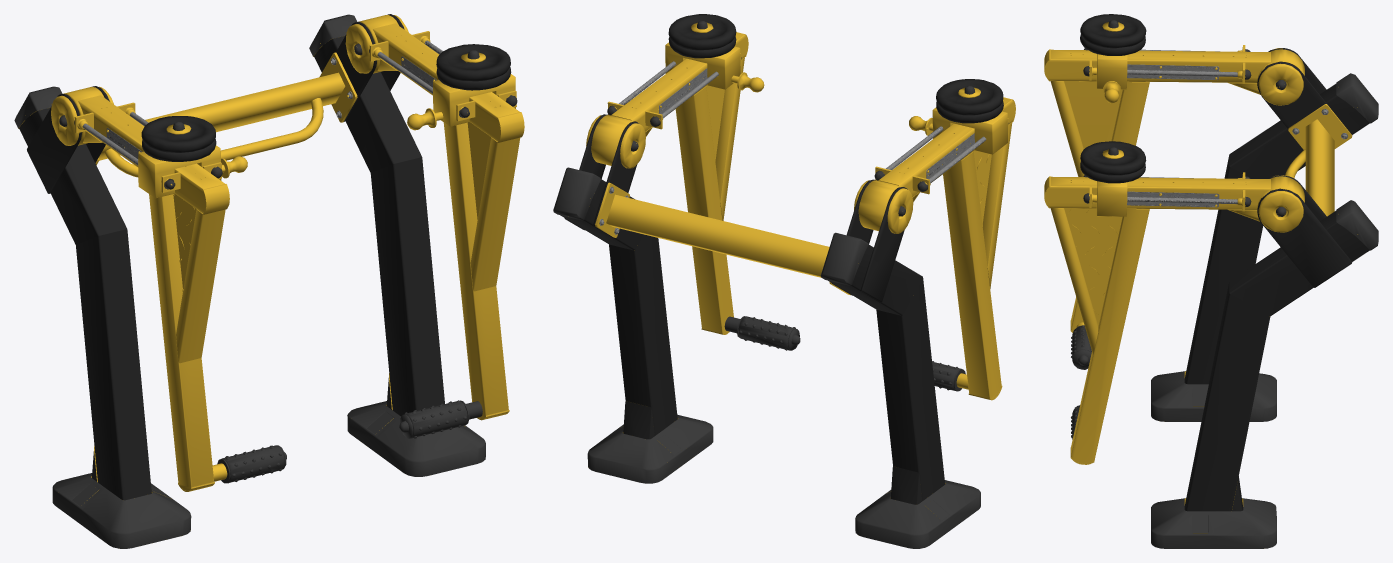
3 renders of one model, left to right at view 1: azimuth 30°, elevation 25°; view 2: azimuth 150°, elevation 25°; view 3: azimuth 270°, elevation 25°, orthographic. The views are drawn at different scales.
Parts seen in each view (by area): view 1: Geom3D (×3), Geom3D_007.STL#2; view 2: Geom3D (×3), Geom3D_007.STL#2; view 3: Geom3D (×3), Geom3D_007.STL#2.
Part boxes in pixels (<box>): Geom3D (×3): <box>14,14,517,548</box>; Geom3D_007.STL#2: <box>18,15,524,500</box>; Geom3D (×3): <box>553,14,1008,548</box>; Geom3D_007.STL#2: <box>586,22,1015,513</box>; Geom3D (×3): <box>1071,14,1378,548</box>; Geom3D_007.STL#2: <box>1044,22,1357,533</box>.
Size of the model in its own units: 1.27 by 1.41 by 1.11.
Materials: 4 (1 with a texture image).
